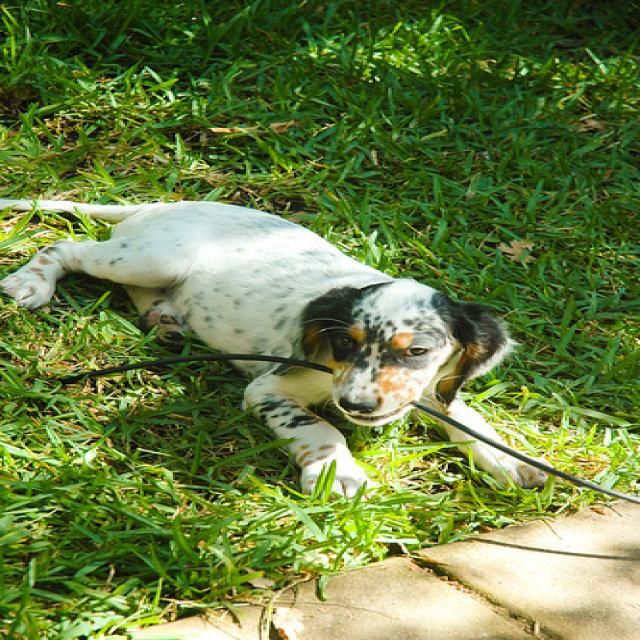dog-english_setter: (2, 189, 573, 508)
